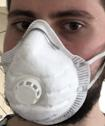with_mask: (1, 1, 105, 126)
